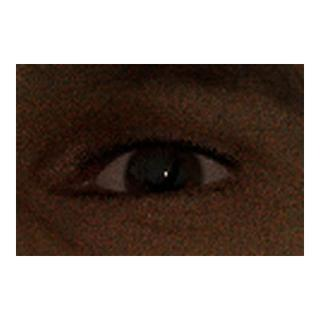pupil: (148, 161, 180, 194)
